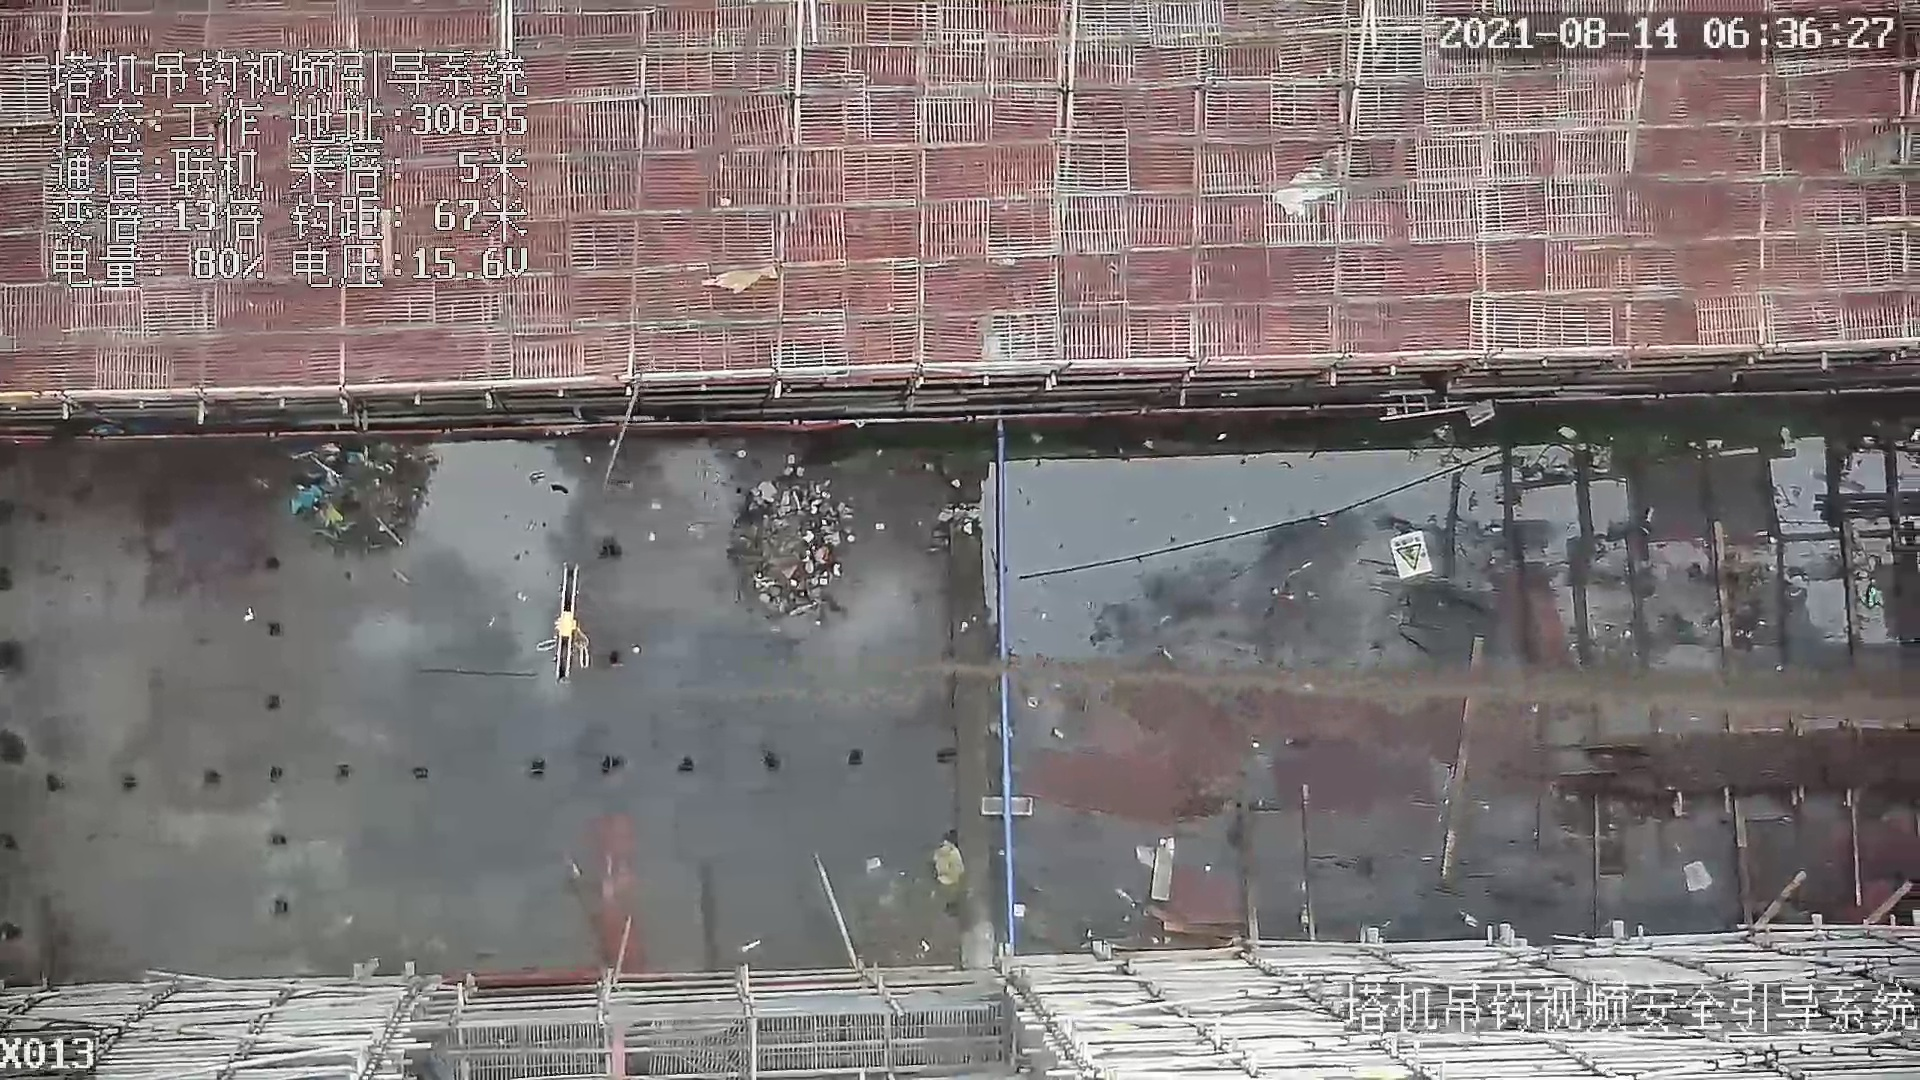hook: (538, 558, 595, 676)
